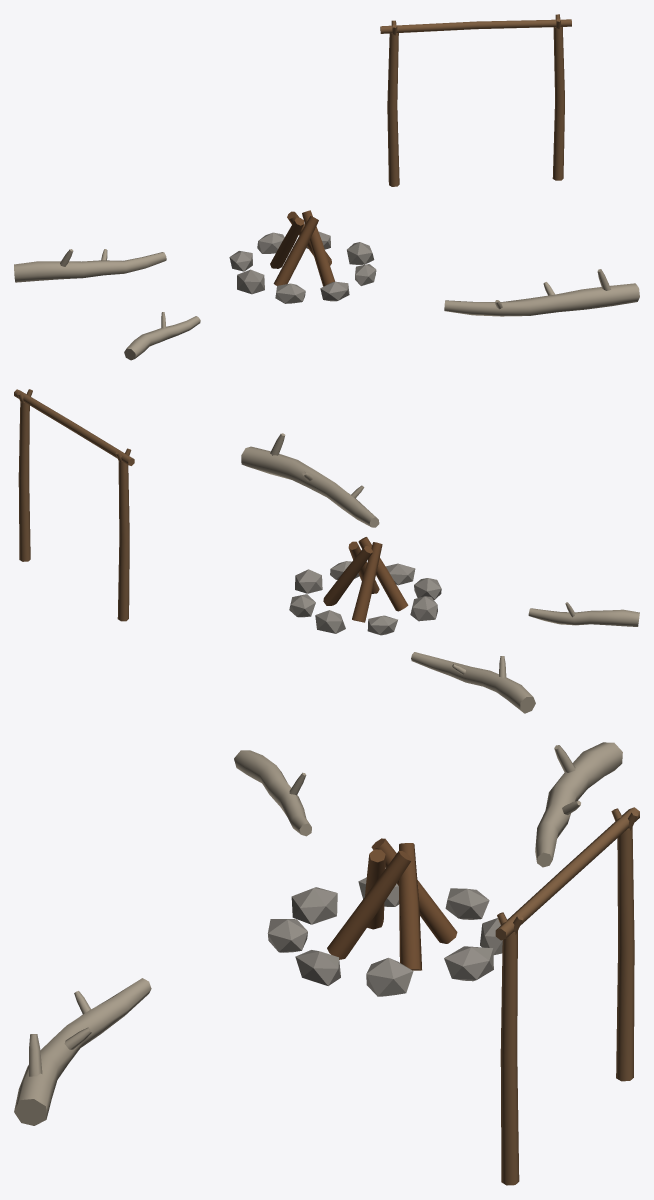
Rendered from campfire.glb.
3 views of the same model, one above another, from view 1: azimuth 30°, elevation 25°; view 2: azimuth 150°, elevation 25°; view 3: azimuth 270°, elevation 25° (orthographic). The views are drawn at different scales.
Visible parts, largest first — view 1: DryingRack, Driftwood_C, FirePit_Stones, Driftwood_B, FirePit_Logs, Driftwood_A; view 2: DryingRack, FirePit_Stones, Driftwood_C, FirePit_Logs, Driftwood_B, Driftwood_A; view 3: DryingRack, FirePit_Stones, FirePit_Logs, Driftwood_C, Driftwood_B, Driftwood_A.
Boxes of the visible parts, bbox=[...] form: DryingRack: bbox=[380, 14, 571, 186]; Driftwood_C: bbox=[444, 269, 639, 316]; FirePit_Stones: bbox=[229, 231, 376, 303]; Driftwood_B: bbox=[14, 249, 166, 282]; FirePit_Logs: bbox=[270, 210, 334, 286]; Driftwood_A: bbox=[124, 312, 200, 360]; DryingRack: bbox=[14, 389, 134, 621]; FirePit_Stones: bbox=[289, 561, 441, 635]; Driftwood_C: bbox=[241, 433, 379, 527]; FirePit_Logs: bbox=[323, 537, 408, 622]; Driftwood_B: bbox=[411, 652, 535, 713]; Driftwood_A: bbox=[528, 602, 639, 626]; DryingRack: bbox=[495, 807, 639, 1185]; FirePit_Stones: bbox=[267, 877, 502, 996]; FirePit_Logs: bbox=[327, 838, 457, 970]; Driftwood_C: bbox=[14, 978, 151, 1125]; Driftwood_B: bbox=[535, 742, 622, 867]; Driftwood_A: bbox=[234, 750, 311, 836].
Size of the model in its own units: 3.16 by 0.9257 by 1.96.
